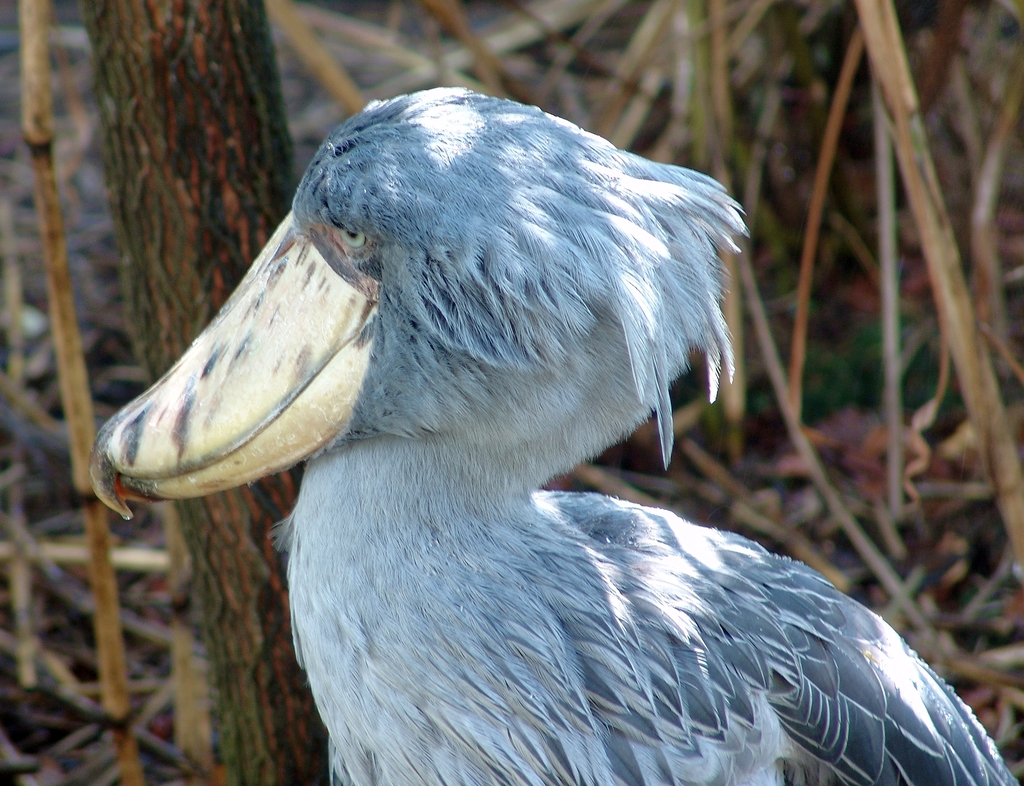Bird: (89, 86, 1021, 786)
